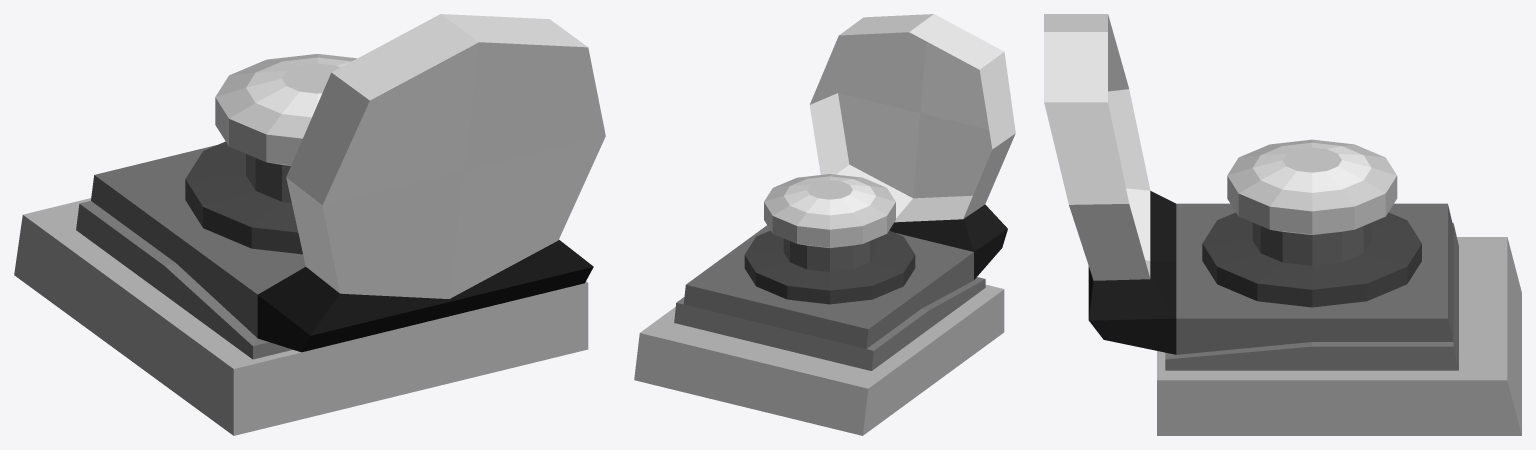
Rendered from BigButtonModel.fbx.
3 renders of one model, left to right at view 1: azimuth 30°, elevation 25°; view 2: azimuth 150°, elevation 25°; view 3: azimuth 270°, elevation 25°, orthographic. The views are drawn at different scales.
Parts seen in each view (by area): view 1: BigButtonStandModel, BigButtonModel; view 2: BigButtonStandModel, BigButtonModel; view 3: BigButtonStandModel, BigButtonModel.
Boxes of the visible parts, box(x1,y1,x2,y2) form: BigButtonStandModel: box(14, 14, 605, 435); BigButtonModel: box(215, 54, 356, 202); BigButtonStandModel: box(634, 14, 1015, 435); BigButtonModel: box(764, 174, 895, 271); BigButtonStandModel: box(1044, 14, 1521, 435); BigButtonModel: box(1227, 139, 1397, 265).
Size of the model in its own units: 43.18 by 46.61 by 60.72.
